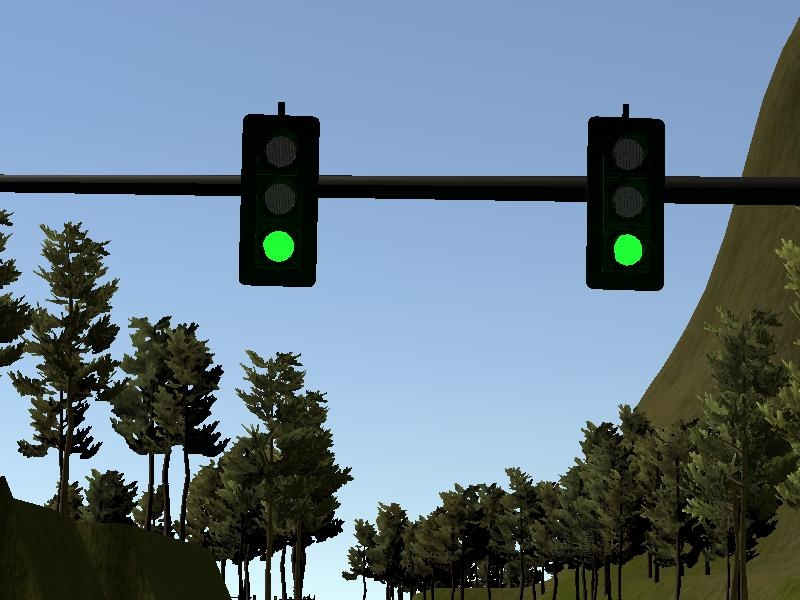green: (586, 117, 665, 291), (241, 115, 319, 287)
